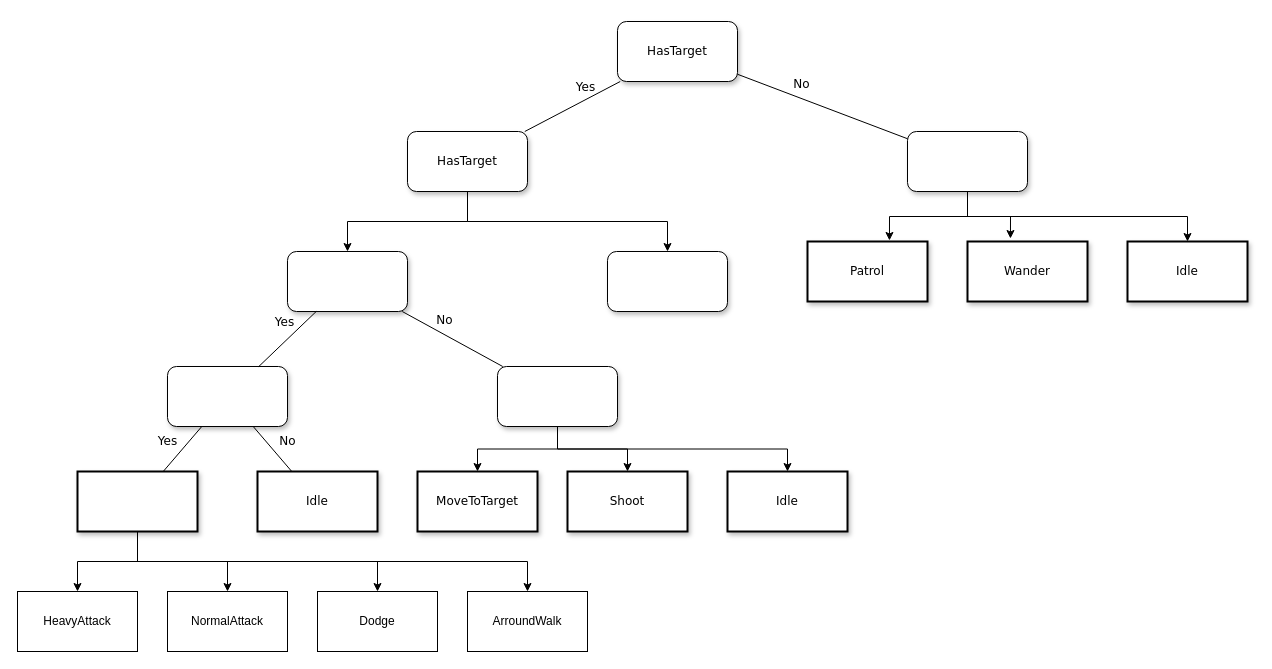
Some shapes in this 1272 by 669 pixel diagram are drawn without their labels. Here are the shapes that lost their labels. From the top down, the centre of each, then its label:
At (x=968, y=162): "NoTarget".
At (x=348, y=282): "Distance".
At (x=668, y=282): "Condition".
At (x=228, y=398): "Melee".
At (x=558, y=398): "Range".
At (x=138, y=502): "Attack".
